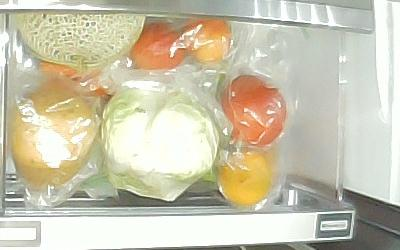cabbage: (100, 86, 216, 199)
carrot_vinyl: (39, 60, 111, 99)
melon: (11, 11, 146, 74)
pear_vinyl: (9, 78, 100, 191)
prune_vinyl: (128, 21, 186, 72), (180, 18, 234, 66)
tangerine_vinyl: (218, 150, 273, 206)
tomato_vinyl: (221, 74, 287, 145)
